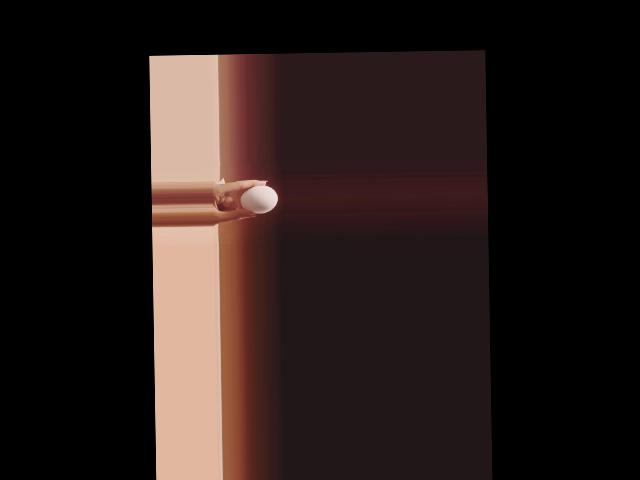egg: (239, 185, 278, 214)
